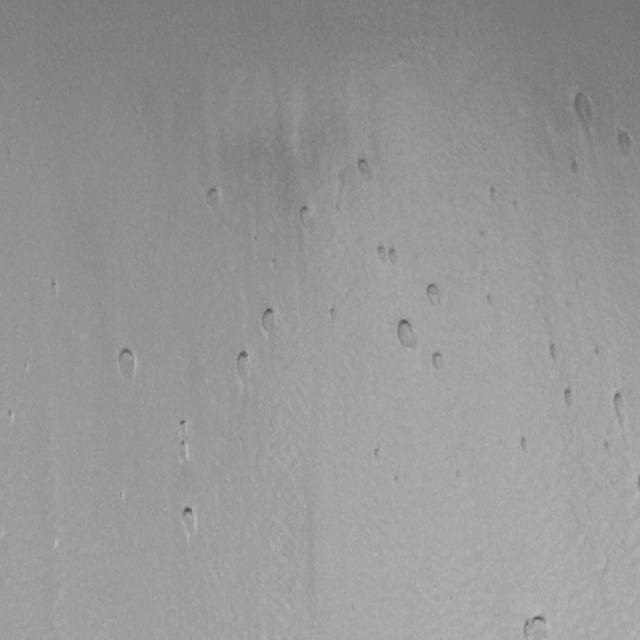pin holes: (568, 90, 598, 134), (522, 611, 555, 640), (113, 347, 140, 382), (392, 316, 418, 351), (609, 390, 631, 427), (232, 349, 255, 384), (177, 504, 199, 538), (257, 306, 280, 334), (615, 128, 636, 158), (295, 203, 317, 231), (356, 155, 378, 182), (203, 184, 225, 211), (425, 280, 446, 306), (427, 350, 447, 376), (175, 438, 194, 465), (546, 340, 564, 364), (372, 244, 390, 266), (46, 278, 64, 300), (2, 406, 19, 429), (567, 157, 584, 180), (563, 386, 578, 409), (517, 434, 532, 455), (388, 248, 403, 267), (487, 185, 500, 205), (176, 416, 190, 433), (328, 304, 340, 322), (604, 438, 614, 455), (374, 446, 383, 464), (513, 198, 521, 216), (594, 343, 600, 361), (394, 476, 402, 486), (456, 469, 462, 482), (487, 295, 493, 308), (481, 229, 487, 239)
